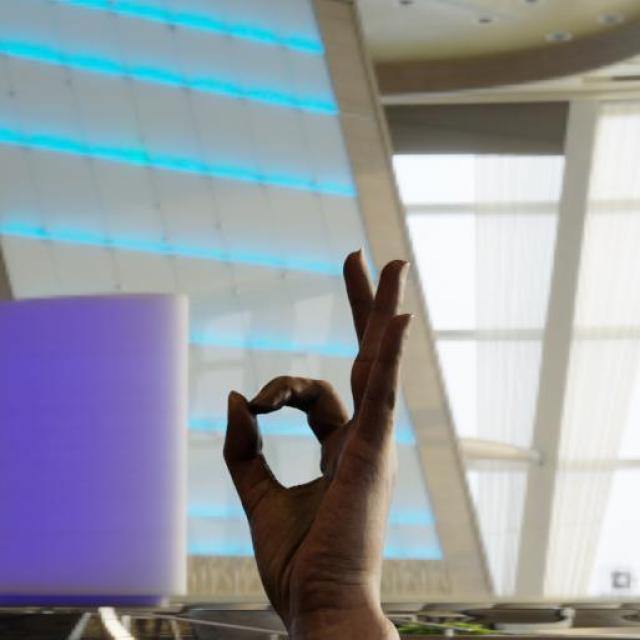F: (218, 243, 416, 616)
